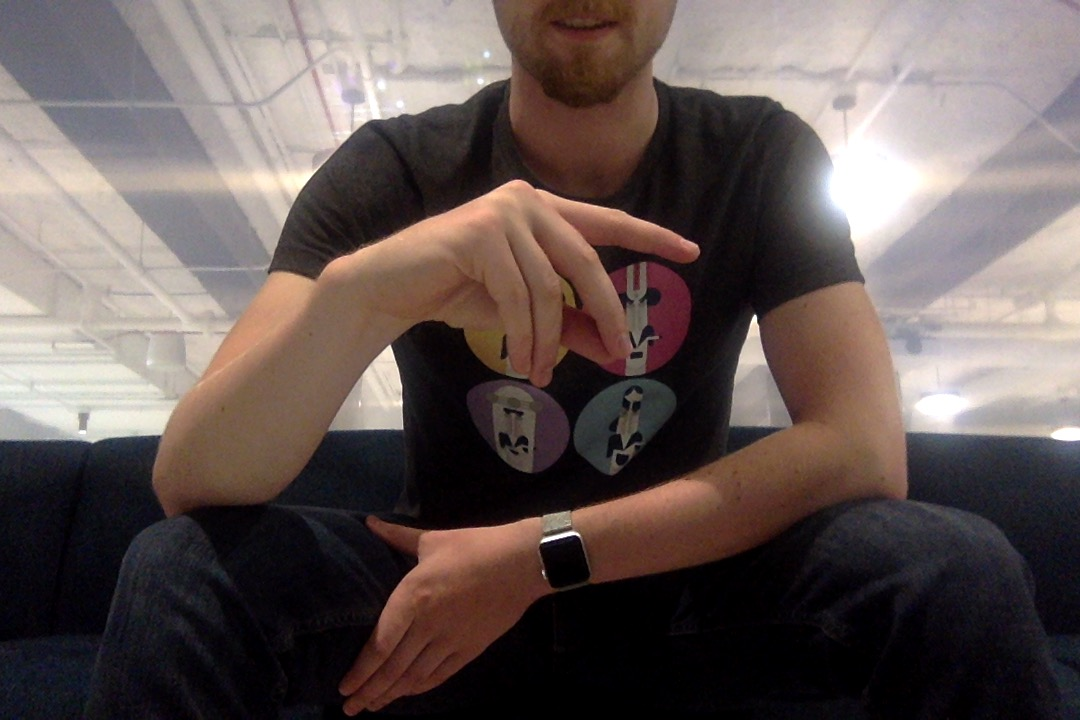p: (323, 177, 705, 392)
